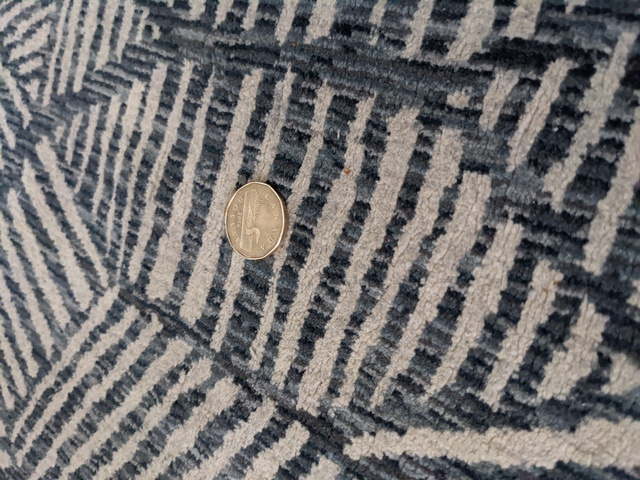loonie: (217, 175, 290, 262)
